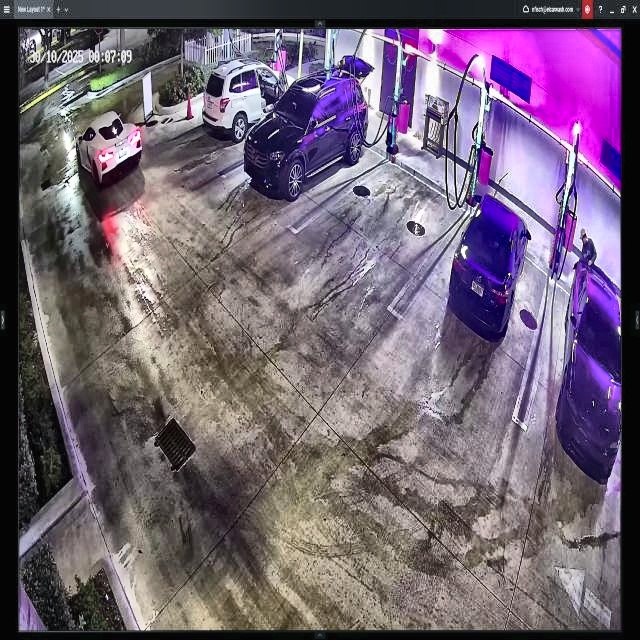Car: (248, 56, 372, 201), (448, 192, 531, 340), (74, 110, 142, 180)
